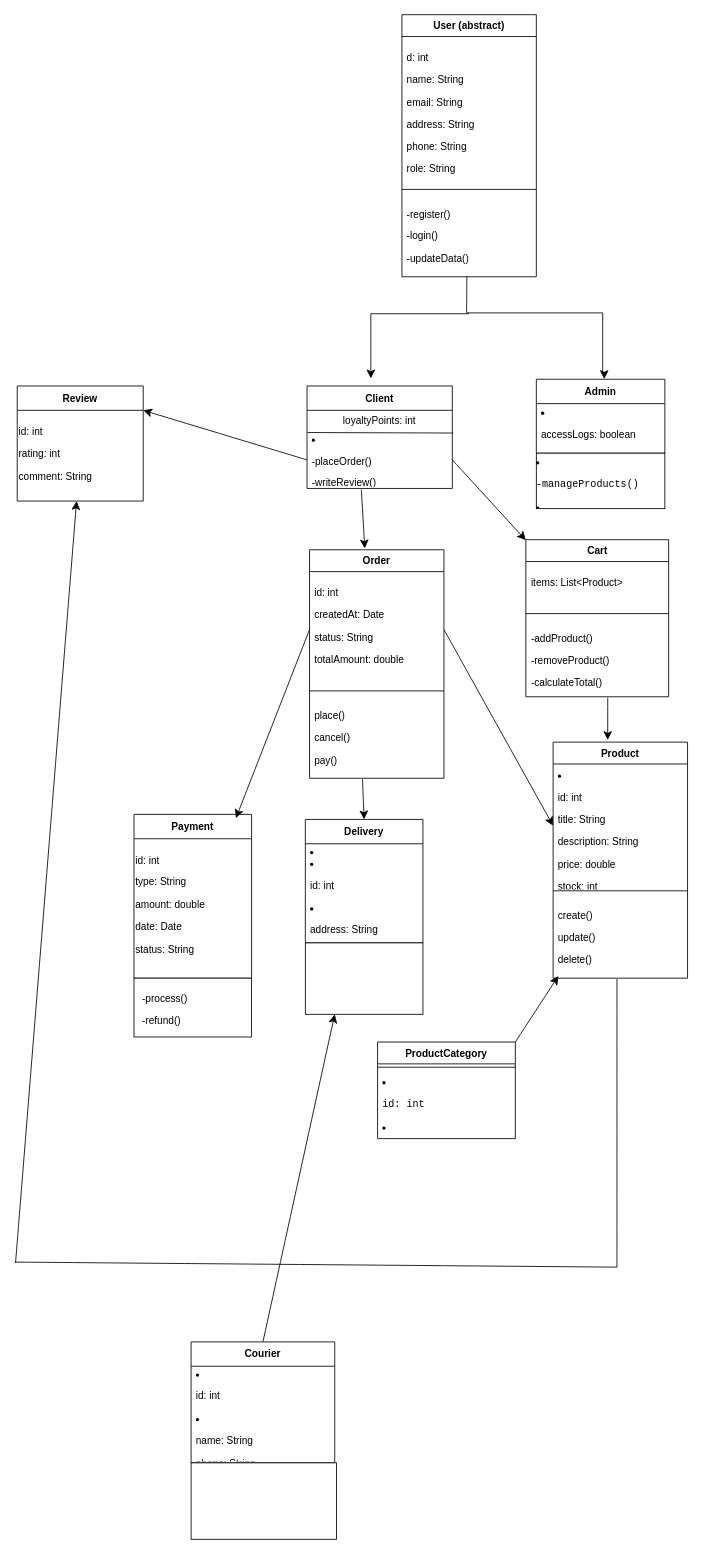
Some shapes in this 702 by 1558 pixel diagram are drawn without their labels. The centre of each missing label's shape, as x and y in pixels:
-send() -track() -complete(): pixel 263 1500
send() track() complete(): pixel 363 978
